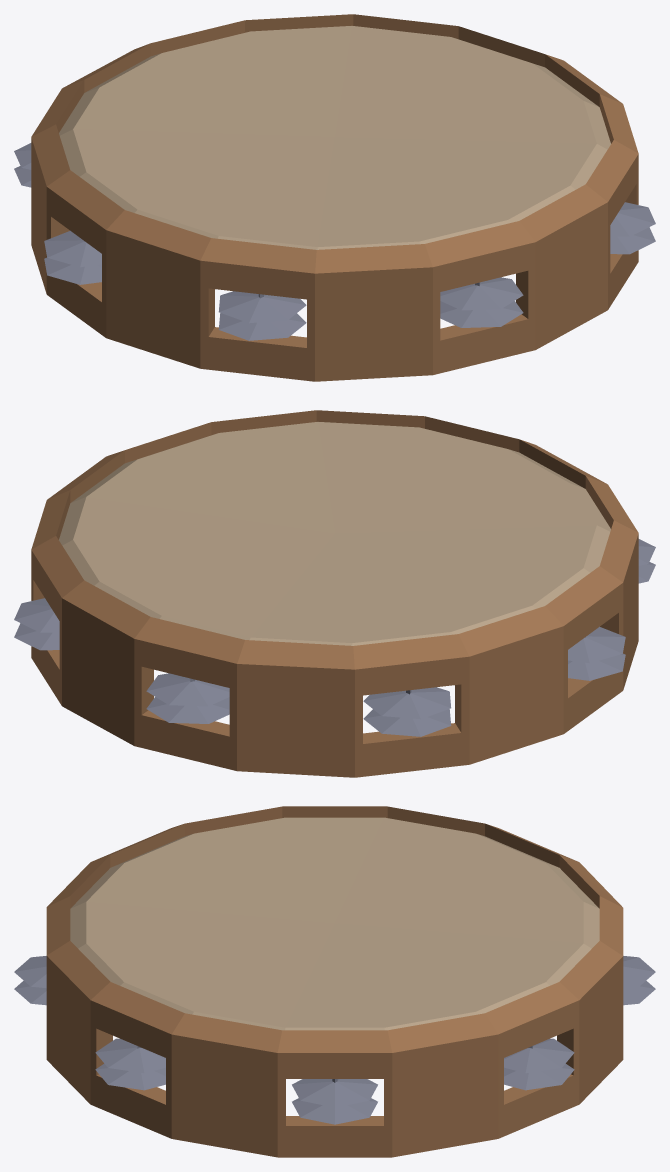
Rendered from pandero-19beae.glb.
3 views of the same model, one above another, from view 1: azimuth 30°, elevation 25°; view 2: azimuth 150°, elevation 25°; view 3: azimuth 270°, elevation 25° (orthographic). The views are drawn at different scales.
Visible parts, largest first — view 1: pandero-body; view 2: pandero-body; view 3: pandero-body.
Part boxes in pixels (x1,y1,x2,y2): pandero-body: [14, 14, 655, 381]; pandero-body: [14, 410, 655, 777]; pandero-body: [14, 806, 655, 1157].
Size of the model in its own units: 0.273 by 0.055 by 0.273.
